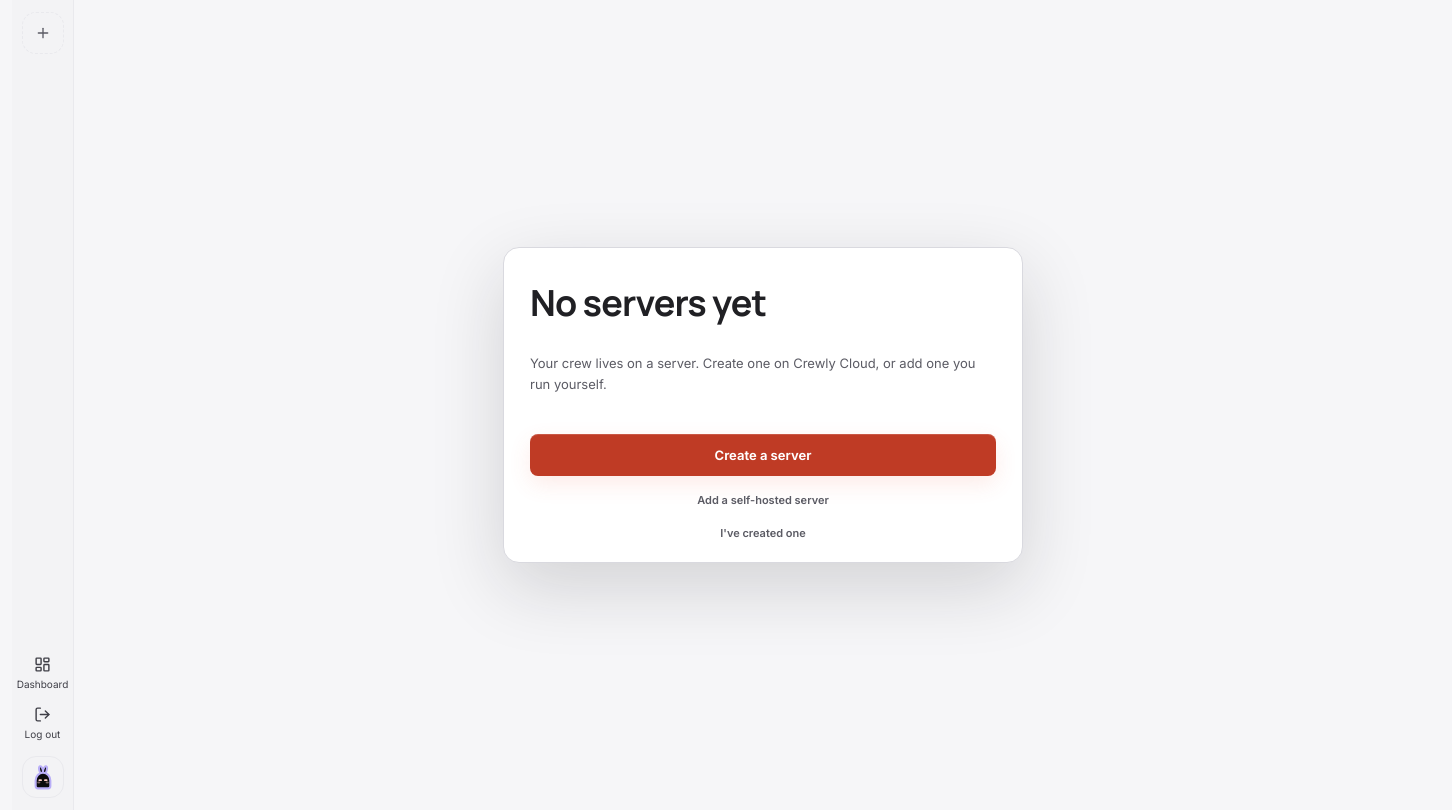
the hosted app on a fresh visit › keeps the account open and offers retry when logout fails
Expected: the heading "No servers yet" is shown, [530,278,766,327]
Click the button "Log out" at (42, 724), box [12,700,72,748]
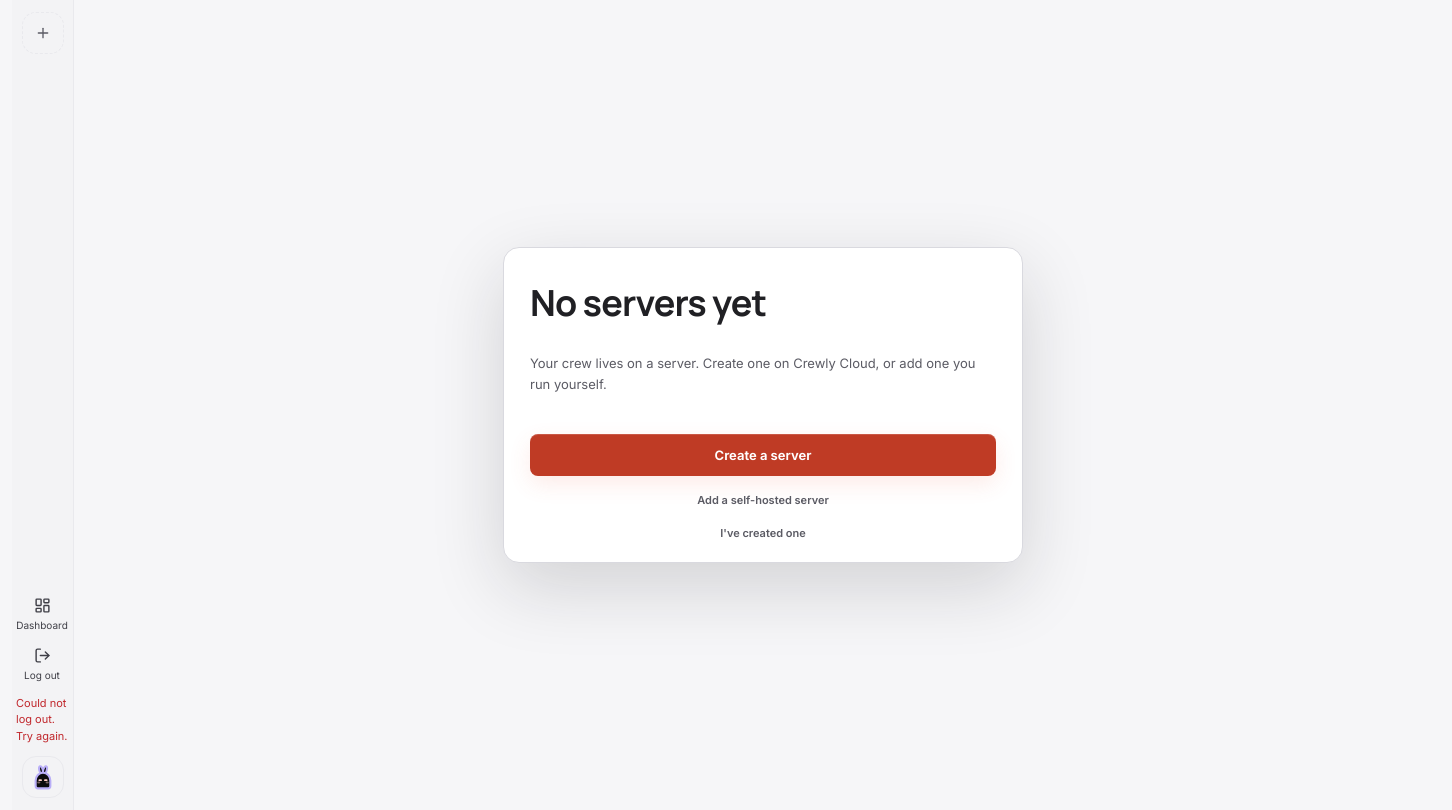
Expected: the button "Log out" is enabled, [12,640,72,688]
Expected: the message reads "Could not log out. Try again.", [16,696,68,742]
